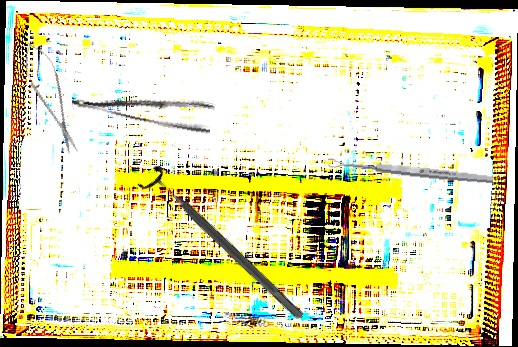Dressing Forceps: (71, 74, 216, 137)
Fixation Ring: (136, 161, 313, 330)
Micro Scissor: (15, 37, 88, 159)
Surgical Spoon: (327, 156, 494, 186)
